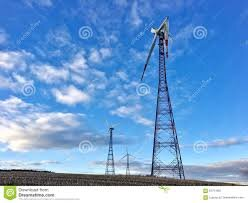faulty: (144, 16, 173, 78)
